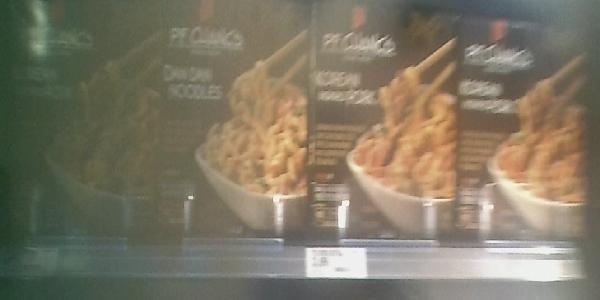pizza1: (311, 1, 461, 244), (156, 1, 309, 234), (4, 1, 155, 233), (462, 17, 591, 240)
